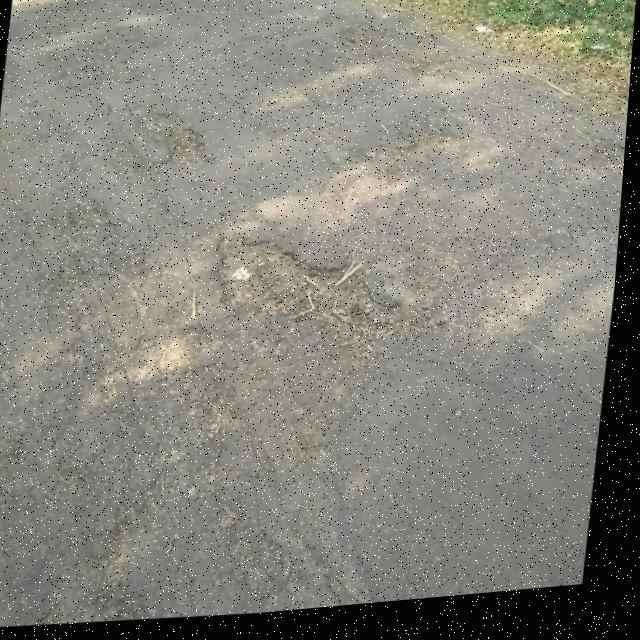pothole: (204, 210, 434, 364)
